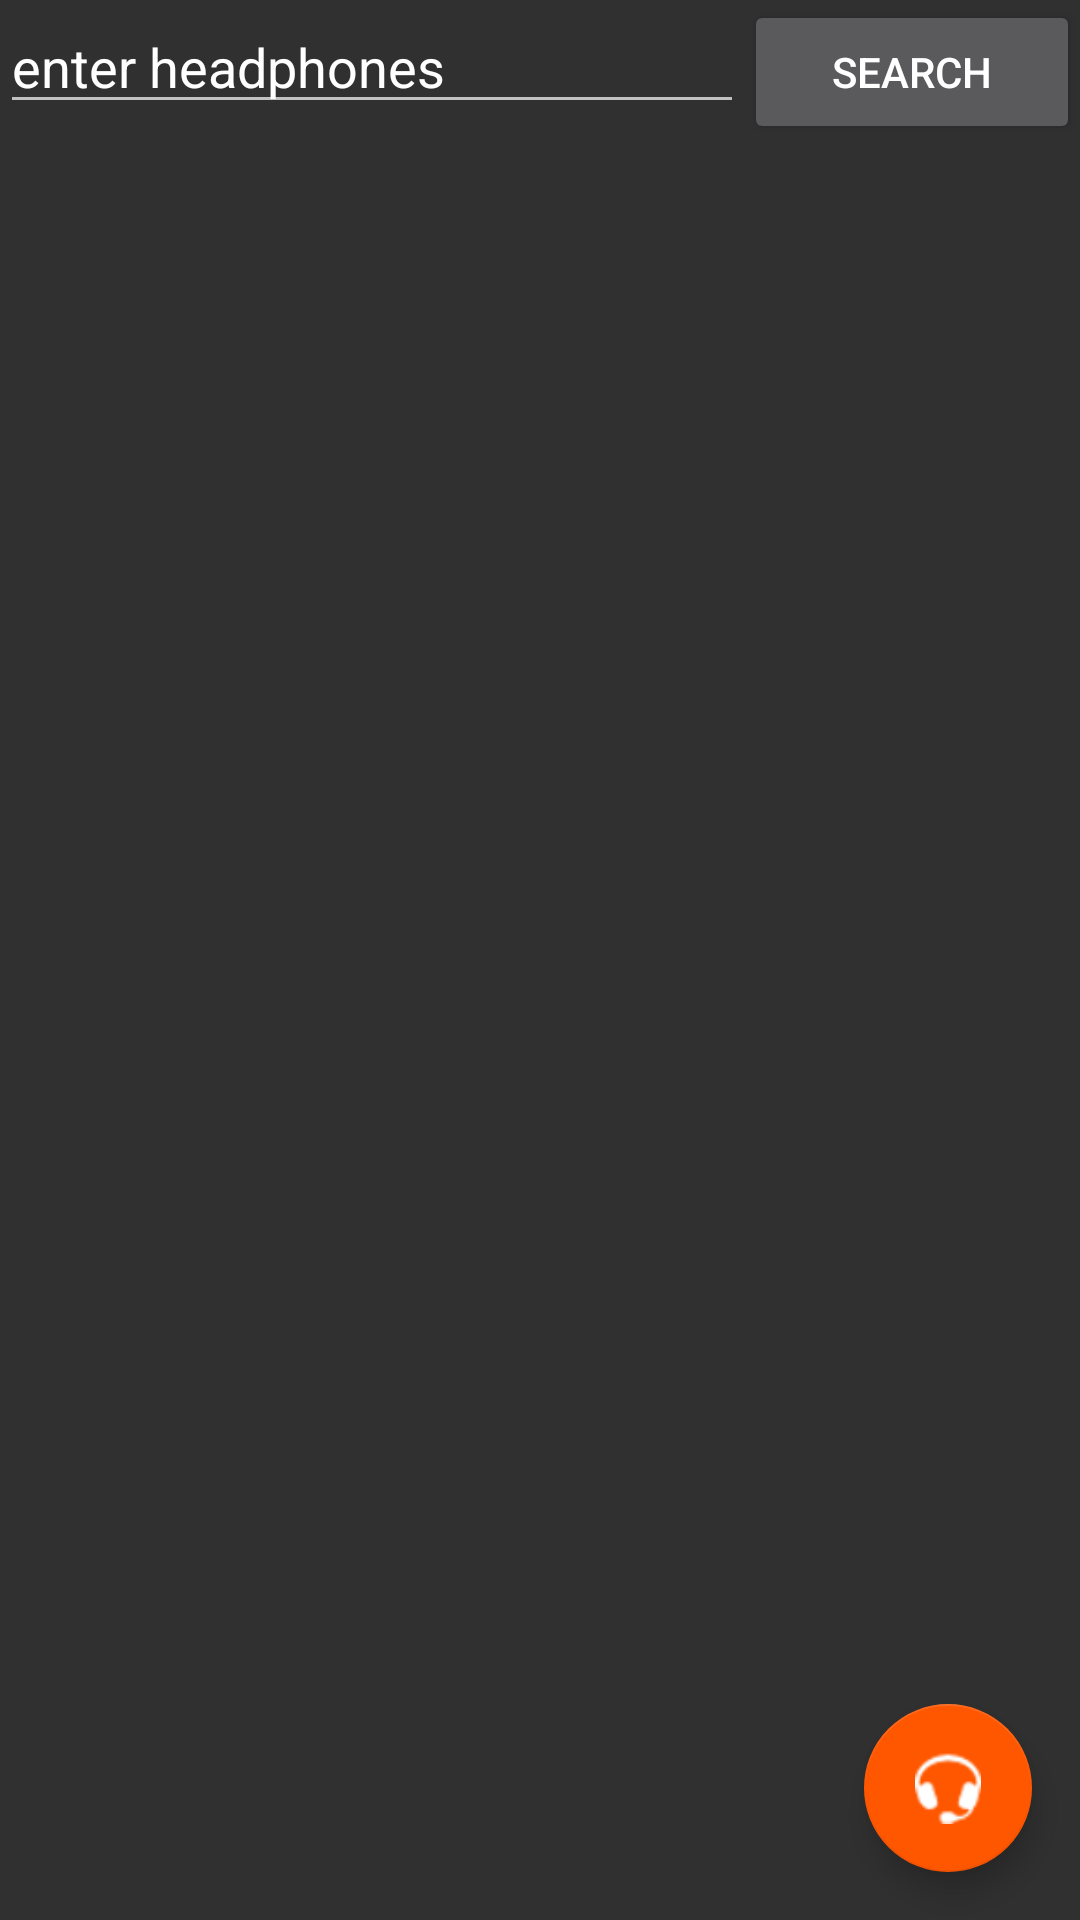

Locate icon controls on the screen. Image size 1080×1920, boxes as (x1, y1, x2, y2).
headset: (864, 1704, 1032, 1872)
